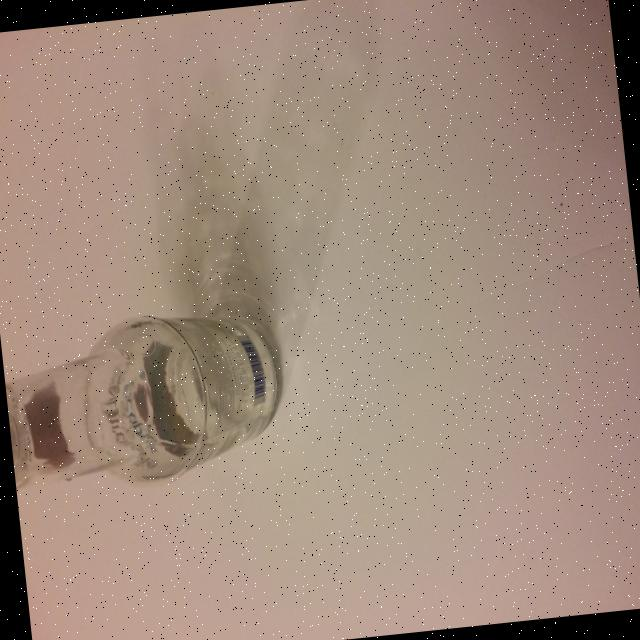glass: (0, 0, 419, 499), (0, 298, 292, 498)
